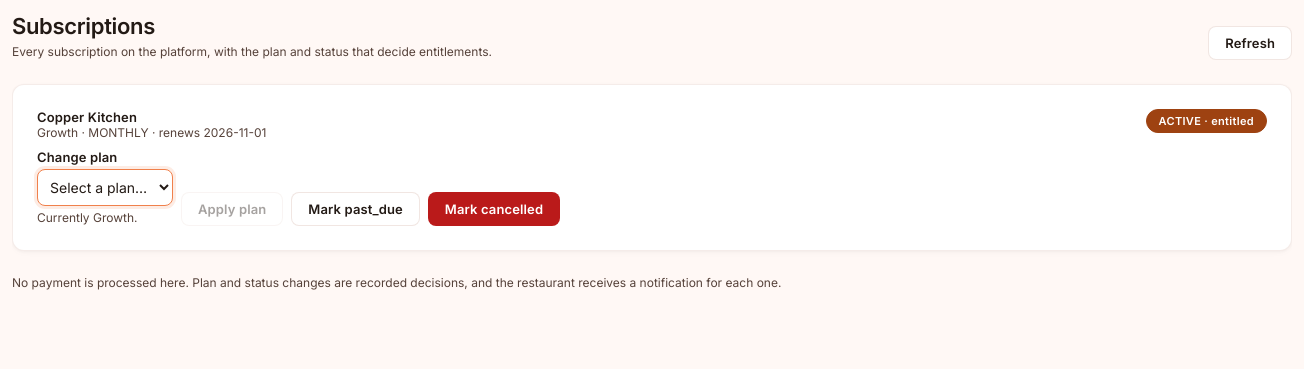
Test case: AdminDirectory › AdminSubscriptions › sends a plan change for the chosen subscription
Expected: the text "Copper Kitchen" is shown, [37,109,137,125]
Select "Starter" in the dropdown named "Plan for Copper Kitchen" at x=105, y=188, box [37,169,173,206]
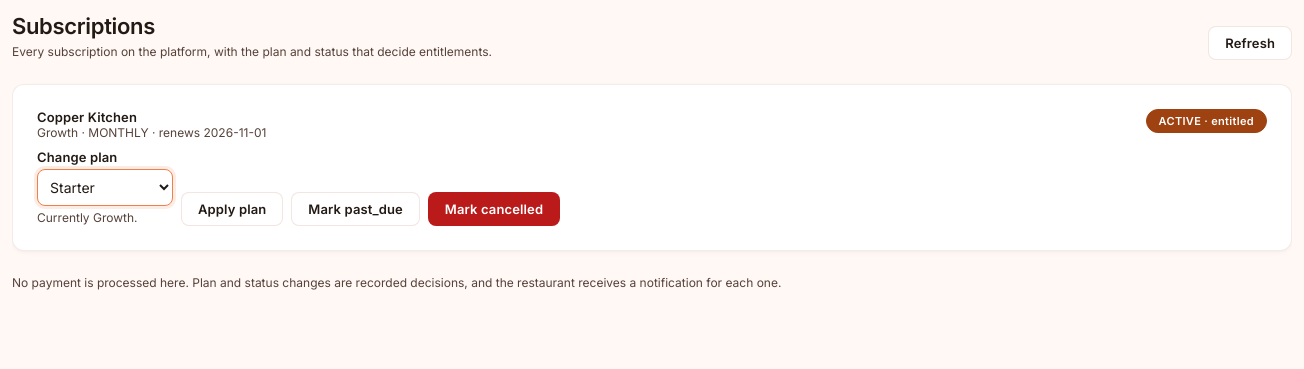
Click the button "Apply plan" at x=232, y=209, box [181,192,283,226]
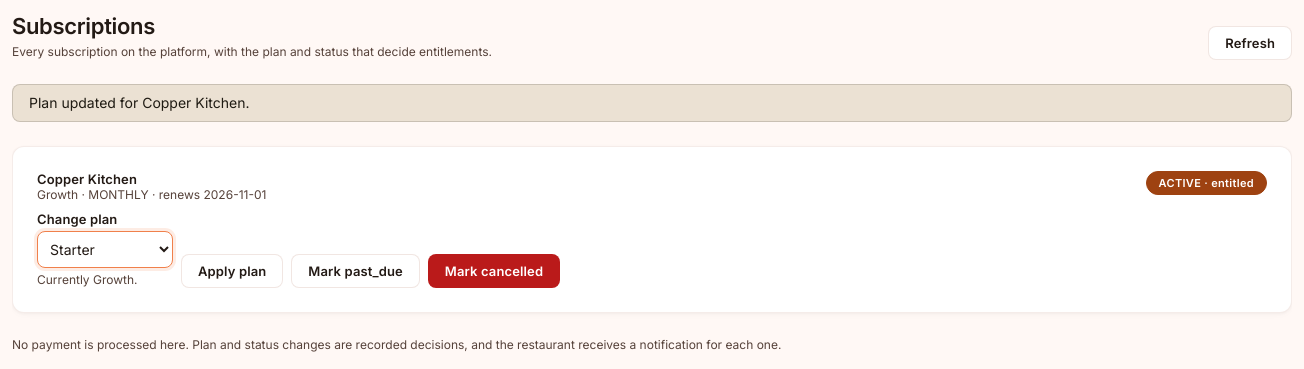
Expected: the text "Plan updated for Copper Kitchen." is shown, [12,84,1292,122]
